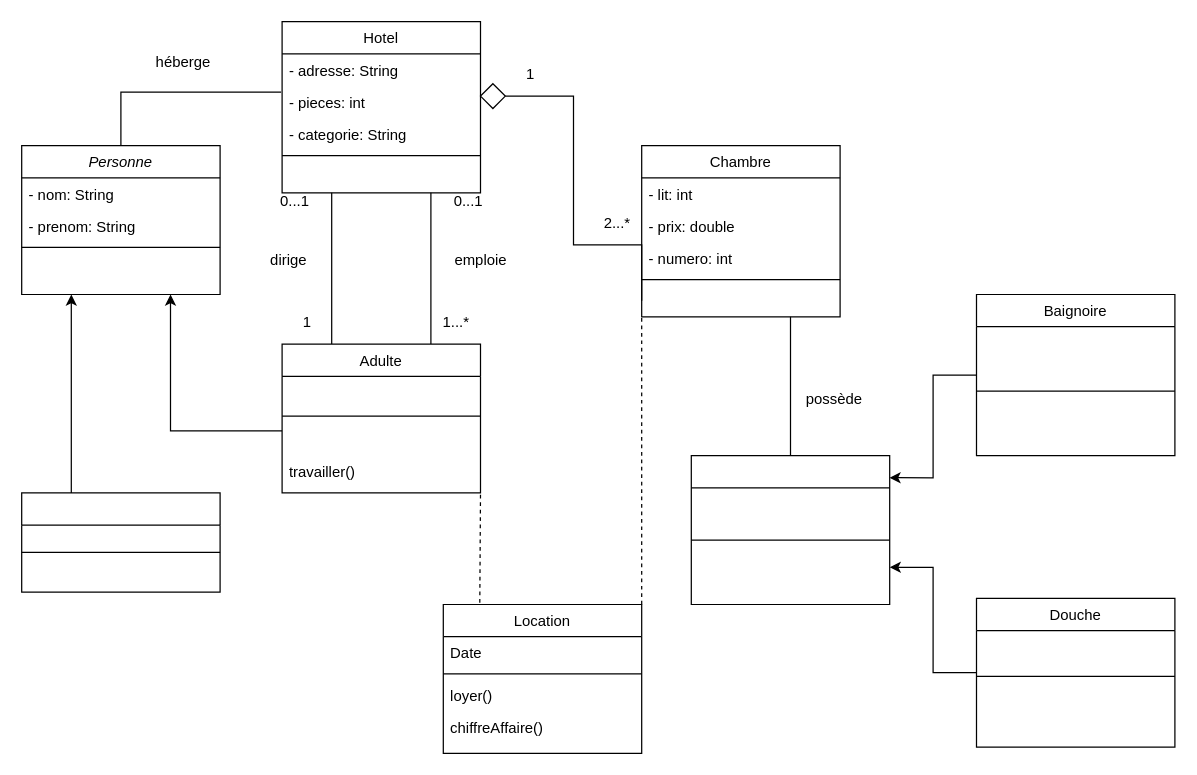
Some shapes in this 1197 by 775 pixel diagram are drawn without their labels. The centre of each missing label's shape, as x and y in pixels:
"Enfant" belongs at point (120, 542).
"Salle d'eau" belongs at point (790, 529).
